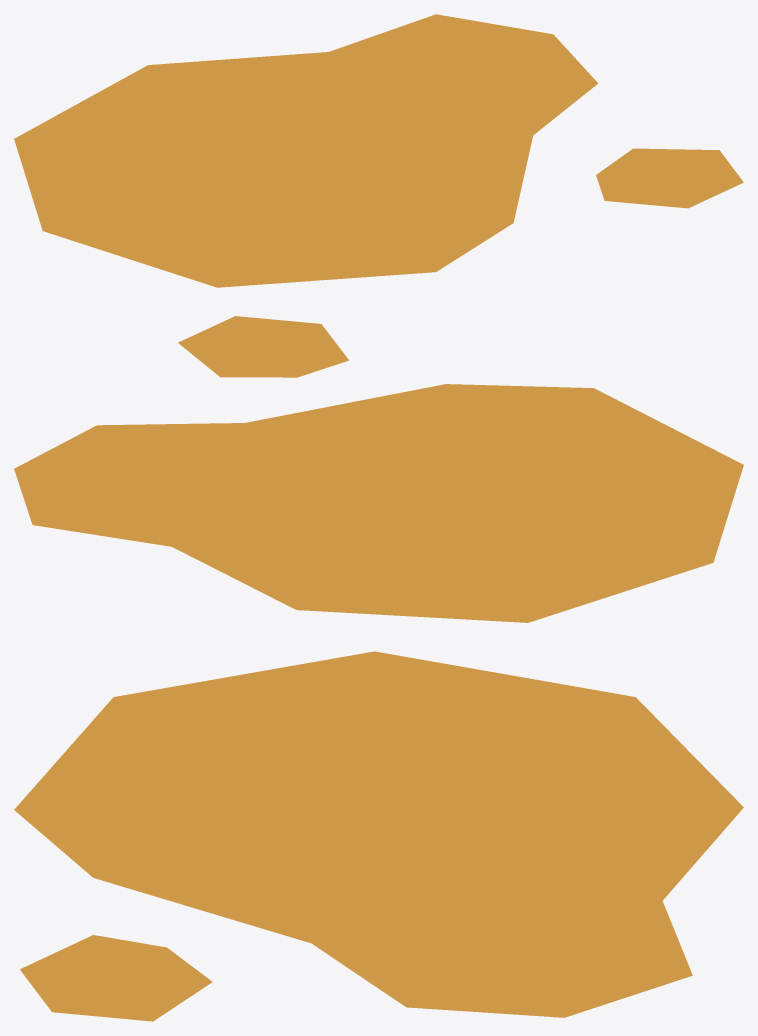
The model's file is blood-spill.fbx.
3 views of the same model, one above another, from view 1: azimuth 30°, elevation 25°; view 2: azimuth 150°, elevation 25°; view 3: azimuth 270°, elevation 25° (orthographic). The views are drawn at different scales.
Parts seen in each view (by area): view 1: blood-spill; view 2: blood-spill; view 3: blood-spill.
Boxes of the visible parts, bbox=[...] form: blood-spill: bbox=[14, 14, 743, 287]; blood-spill: bbox=[14, 316, 743, 622]; blood-spill: bbox=[14, 651, 743, 1021].
Size of the model in its own units: 1.25 by 0 by 1.04.
